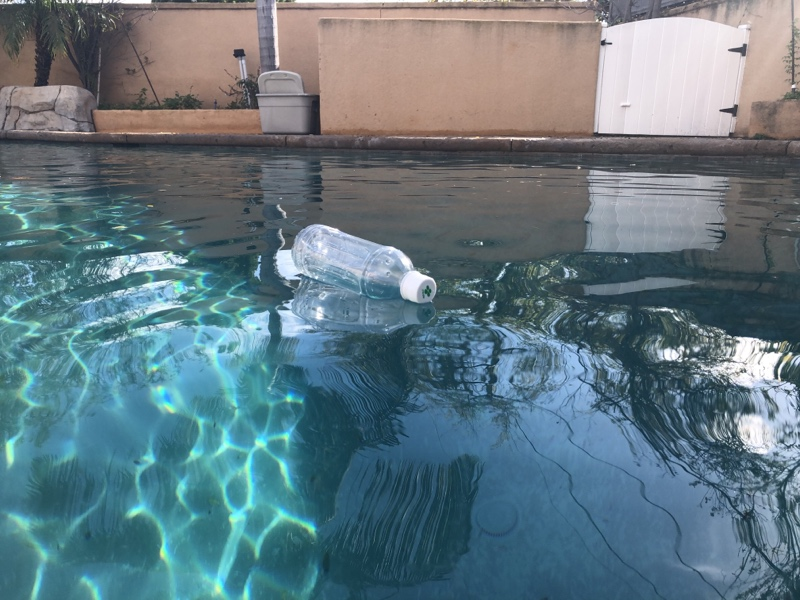Plastic Bottle: (290, 223, 440, 307)
